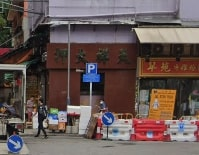Parking: (85, 62, 97, 75)
